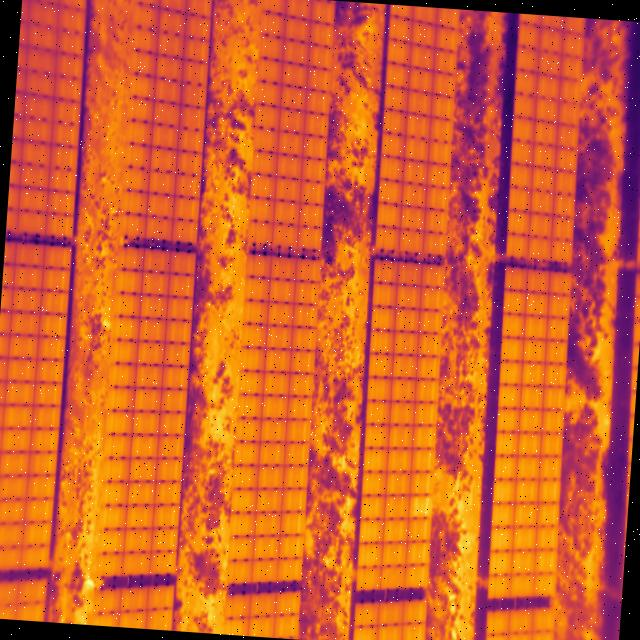Hotspot: (411, 494, 432, 522)
